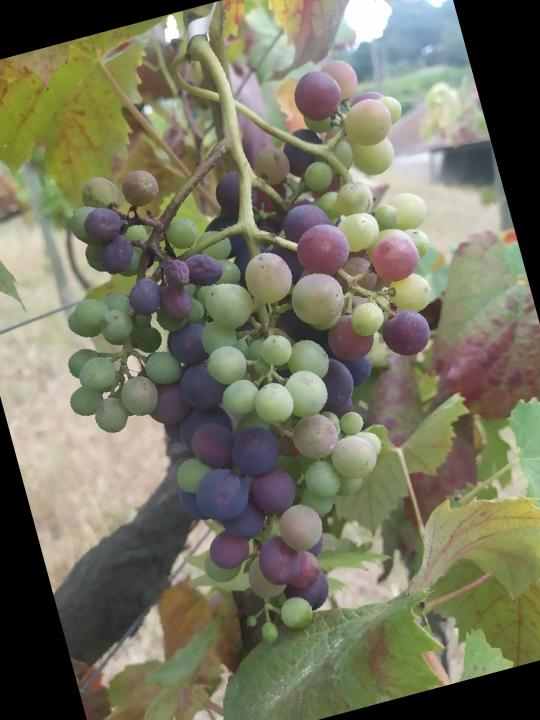grape: (0, 42, 529, 680)
